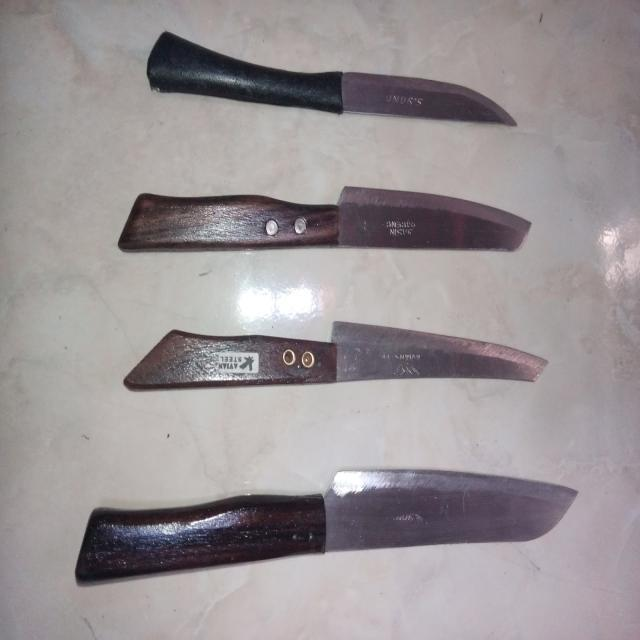Pisau: (64, 460, 593, 592)
